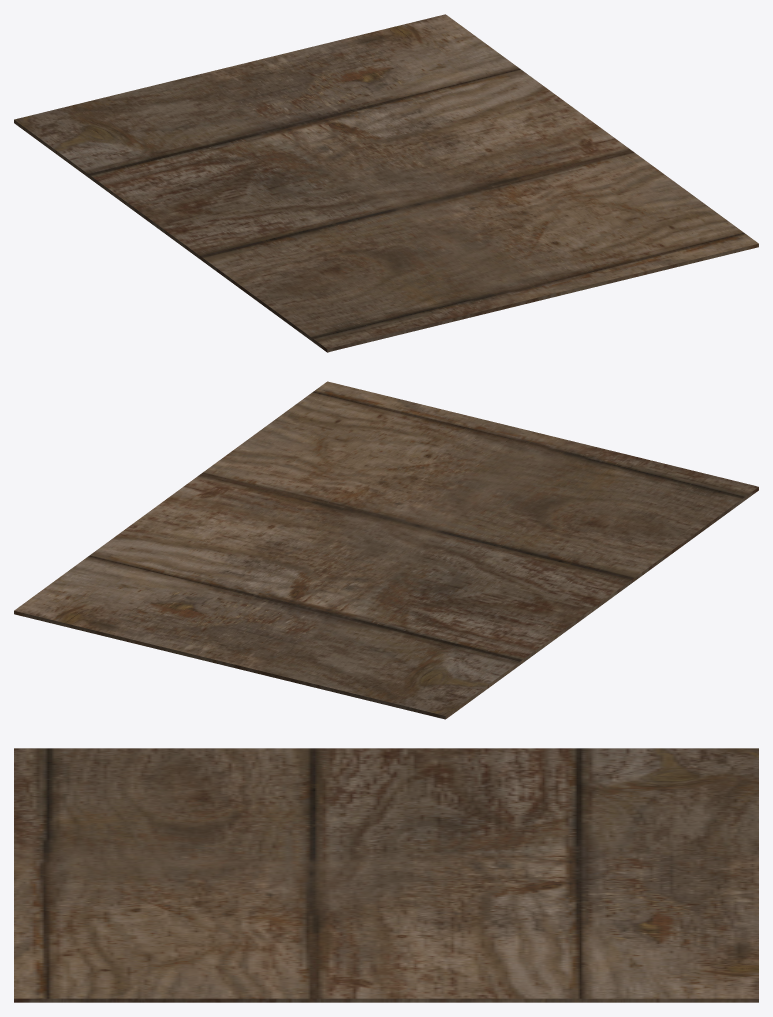
File: Piso.fbx
3 renders of one model, top to bottom at view 1: azimuth 30°, elevation 25°; view 2: azimuth 150°, elevation 25°; view 3: azimuth 270°, elevation 25°, orthographic. The views are drawn at different scales.
Parts seen in each view (by area): view 1: Piso; view 2: Piso; view 3: Piso.
Boxes of the visible parts, box(x1,y1,x2,y2) form: Piso: box(14, 14, 758, 352); Piso: box(14, 381, 758, 719); Piso: box(14, 748, 758, 1002).
Bounding box in the file's own units: 6.26 × 0.0528 × 7.87.
